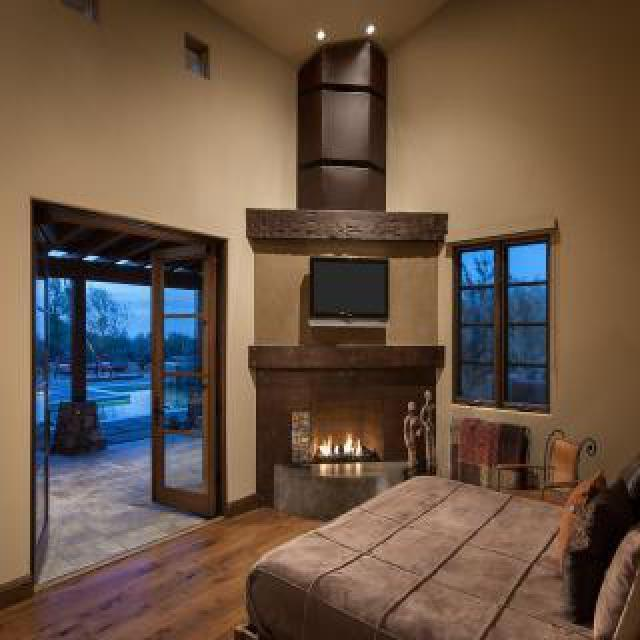Fire: (300, 432, 364, 466)
